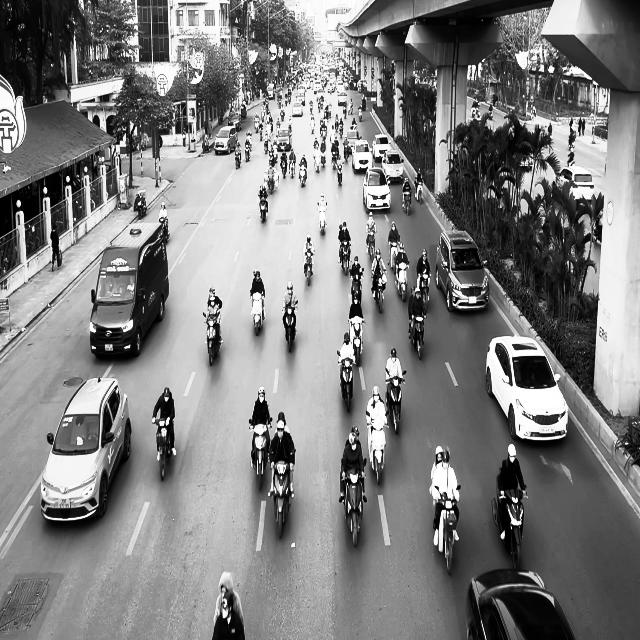car: (40, 376, 131, 523), (89, 222, 169, 358), (485, 335, 568, 442), (465, 568, 576, 639), (435, 229, 490, 313), (552, 165, 594, 205), (362, 167, 390, 212), (213, 126, 238, 154)
motorbike: (491, 474, 527, 570), (432, 483, 461, 575), (340, 458, 366, 547), (270, 453, 293, 538), (248, 417, 272, 490), (366, 415, 388, 485), (152, 416, 174, 481), (385, 369, 406, 434), (337, 349, 355, 412), (202, 311, 222, 366), (348, 316, 365, 366), (282, 300, 298, 352), (409, 314, 426, 359), (371, 268, 387, 313), (250, 290, 265, 335), (394, 260, 409, 302), (418, 272, 431, 313), (350, 268, 363, 304), (338, 240, 351, 275), (303, 249, 314, 286), (134, 189, 146, 218), (159, 216, 170, 244), (258, 192, 268, 222), (317, 204, 327, 234), (414, 178, 423, 204), (402, 189, 411, 215), (235, 147, 241, 169)
